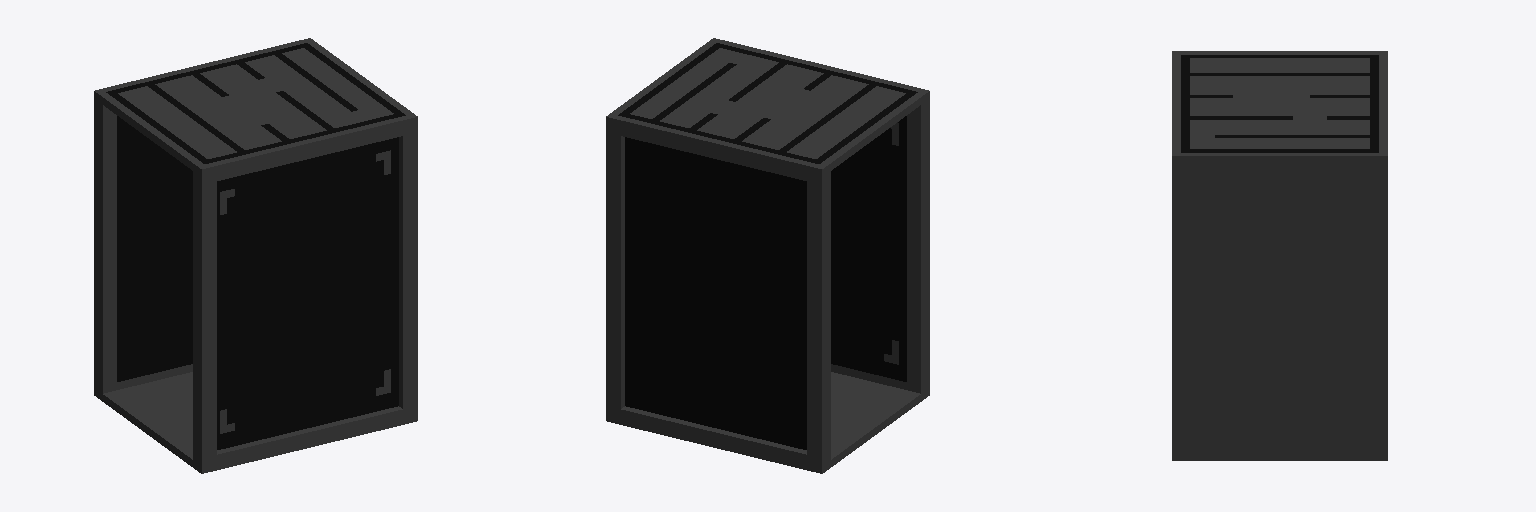
3 renders of one model, left to right at view 1: azimuth 30°, elevation 25°; view 2: azimuth 150°, elevation 25°; view 3: azimuth 270°, elevation 25°, orthographic.
Parts seen in each view (by area): view 1: Deposit; view 2: Deposit; view 3: Deposit.
Boxes of the visible parts, box(x1,y1,x2,y2) form: Deposit: box(94, 38, 417, 473); Deposit: box(606, 38, 929, 473); Deposit: box(1172, 51, 1387, 460).
Size of the model in its own units: 29 by 39 by 25.
Materials: 1 (1 with a texture image).